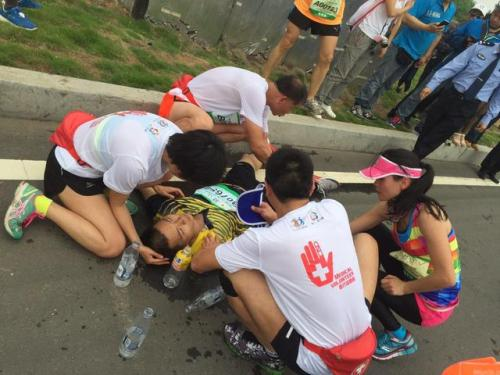10+: (1, 1, 499, 373)
down: (134, 147, 346, 264)
